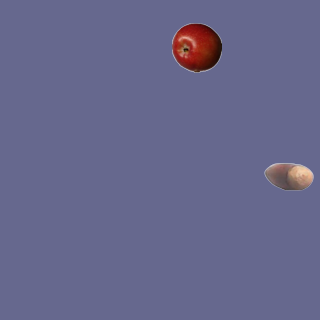Apple Braeburn: (171, 22, 221, 72)
Hazelnut: (263, 151, 313, 201)
